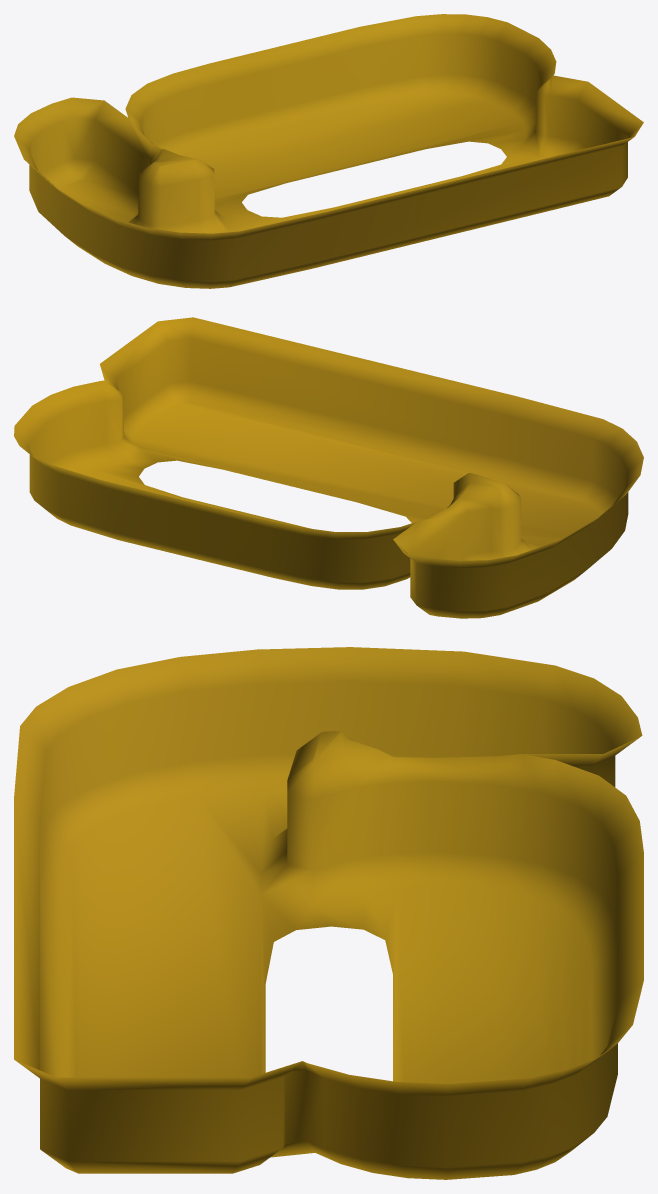
File: original-177.obj
The picture shows the model from 3 angles, top to bottom: view 1: azimuth 30°, elevation 25°; view 2: azimuth 150°, elevation 25°; view 3: azimuth 270°, elevation 25°; orthographic projection. The views are drawn at different scales.
Parts seen in each view (by area): view 1: #ID1185; view 2: #ID1185; view 3: #ID1185.
Boxes of the visible parts, x1,y1,x2,y2 form: #ID1185: [14, 14, 643, 288]; #ID1185: [14, 317, 643, 618]; #ID1185: [14, 647, 643, 1179].
Size of the model in its own units: 0.0192 by 0.00241 by 0.0117.
Materials: 1 (1 with a texture image).
